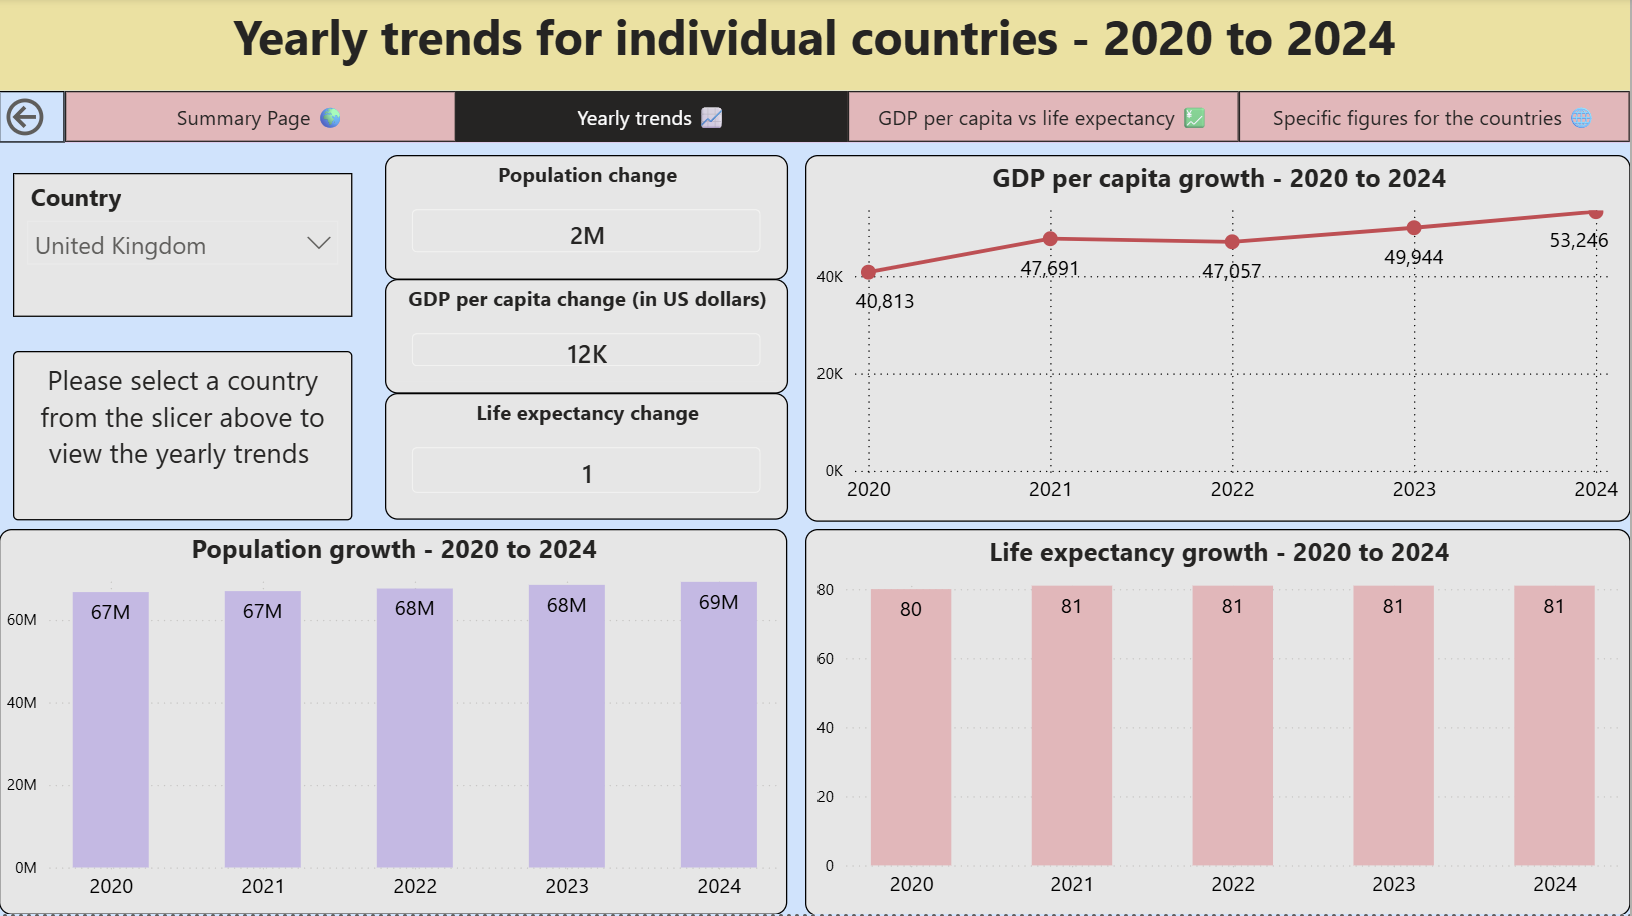

Layout of this report page (visuals, bound fields, positions):
{"tool":"powerbi","page":{"name":"Yearly trends 📈","canvas":[1280,720],"ordinal":2},"visuals":[{"type":"lineChart","title":"GDP per capita growth - 2020 to 2024","fields":{"Category":["GDP per capita yearly volumes.Year"],"Y":["Sum(GDP per capita yearly volumes.GDP per capita)"]},"box":[632.5,123.8,647.3,288],"z":0},{"type":"slicer","fields":{"Values":["DIM_COUNTRY.Country Name"]},"box":[11,124.1,267,81.7],"z":1000},{"type":"clusteredColumnChart","title":"Population growth - 2020 to 2024","fields":{"Y":["Sum(Population yearly volumes.Population)"],"Category":["Population yearly volumes.Year"]},"box":[0,417.2,619.1,302.8],"z":2000},{"type":"clusteredColumnChart","title":"Life expectancy growth - 2020 to 2024","fields":{"Category":["Life expectancy yearly volumes.Year"],"Y":["Sum(Life expectancy yearly volumes.Life expectancy)"]},"box":[632.5,417.2,647.3,304.1],"z":3000},{"type":"cardVisual","title":"Life expectancy change","fields":{"Data":["Sum(MARTS_LIFE_EXPECTANCY_FINAL.Life expectancy change 2020 to 2024)"]},"box":[302.8,310.9,316.3,99.6],"z":4000},{"type":"cardVisual","title":"Population change","fields":{"Data":["Sum(MARTS_POPULATIONS_FINAL.Population change 2020 to 2024)"]},"box":[302.8,123.8,316.3,98.2],"z":5000},{"type":"cardVisual","title":"GDP per capita change (in US dollars)","fields":{"Data":["Sum(MARTS_GDP_PER_CAPITA_FINAL.GDP per capita change 2020 to 2024)"]},"box":[302.8,220.7,316.3,90.2],"z":6000},{"type":"textbox","box":[0,0,1280,73.6],"z":7000},{"type":"textbox","box":[10.8,278.6,266.5,133.2],"z":8000},{"type":"pageNavigator","box":[51.7,73.6,1231.4,40.7],"z":9000},{"type":"actionButton","box":[0,73.6,51.7,40.7],"z":10000}]}

Visuals, with their boxes in screenshot pixels (x1, y1, x2, y2), scaled from the page's 1280x720 canvas onto the 1632x916 screenshot:
"GDP per capita growth - 2020 to 2024" lineChart: 806, 158, 1631, 524
slicer - DIM_COUNTRY.Country Name: 14, 158, 354, 262
"Population growth - 2020 to 2024" clusteredColumnChart: 0, 531, 789, 915
"Life expectancy growth - 2020 to 2024" clusteredColumnChart: 806, 531, 1631, 915
"Life expectancy change" cardVisual: 386, 396, 789, 522
"Population change" cardVisual: 386, 158, 789, 282
"GDP per capita change (in US dollars)" cardVisual: 386, 281, 789, 396
textbox: 0, 0, 1631, 94
textbox: 14, 354, 354, 524
pageNavigator: 66, 94, 1631, 145
actionButton: 0, 94, 66, 145
